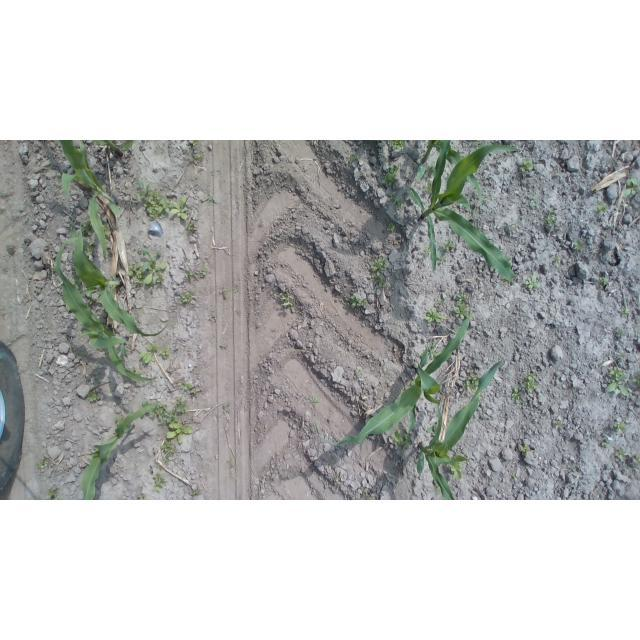Maize: (314, 297, 473, 447), (411, 140, 521, 282), (54, 236, 158, 382), (417, 361, 504, 500), (72, 223, 169, 337), (81, 401, 161, 500), (57, 140, 121, 262), (417, 141, 483, 212), (93, 140, 134, 154)
Weeds: (135, 177, 174, 220), (140, 247, 166, 285), (151, 398, 189, 423), (606, 366, 631, 399), (165, 421, 194, 445), (368, 257, 388, 287), (455, 289, 473, 319), (160, 441, 180, 466), (170, 194, 188, 221), (390, 429, 410, 452), (380, 164, 400, 186), (139, 344, 159, 365), (424, 307, 448, 324), (622, 177, 640, 199), (522, 371, 539, 394), (127, 262, 143, 283), (153, 472, 168, 493), (462, 374, 478, 393), (84, 386, 102, 402), (198, 191, 218, 205), (348, 295, 368, 309), (524, 275, 540, 292), (280, 290, 296, 307), (450, 464, 465, 481), (187, 153, 205, 167), (84, 240, 98, 256), (180, 290, 196, 304), (35, 456, 50, 470), (389, 141, 408, 152), (440, 239, 456, 252), (428, 342, 440, 359), (614, 422, 628, 435), (523, 157, 534, 173), (427, 159, 436, 178), (512, 387, 522, 404), (543, 214, 557, 226), (362, 488, 376, 500), (46, 485, 58, 498), (437, 252, 449, 265), (159, 348, 172, 360), (82, 221, 92, 235), (598, 200, 607, 215), (617, 448, 628, 460), (599, 274, 610, 286), (427, 424, 438, 436), (573, 241, 586, 251), (180, 381, 193, 391), (198, 265, 208, 277), (187, 140, 200, 149), (522, 443, 531, 456), (105, 220, 112, 236), (206, 314, 218, 323), (632, 374, 640, 387), (619, 352, 629, 362), (509, 220, 519, 230), (386, 223, 397, 232), (185, 269, 194, 280), (309, 396, 321, 404), (530, 196, 537, 209), (602, 436, 611, 446), (350, 153, 359, 163), (622, 307, 630, 318), (222, 403, 230, 414), (425, 244, 431, 258), (617, 328, 626, 337), (395, 199, 403, 209), (137, 493, 148, 500), (425, 183, 432, 194), (391, 192, 398, 202), (634, 453, 640, 464), (222, 289, 228, 300), (156, 464, 164, 472), (554, 256, 561, 265), (556, 420, 563, 429), (229, 458, 235, 468), (191, 490, 201, 495), (332, 476, 340, 482), (355, 367, 361, 375), (233, 285, 239, 293), (512, 475, 518, 482), (188, 224, 194, 231), (220, 344, 228, 349), (550, 207, 556, 213), (192, 390, 198, 396), (485, 195, 490, 202), (556, 167, 561, 174), (438, 299, 445, 304), (130, 367, 136, 372), (136, 373, 142, 376), (476, 141, 481, 144)
